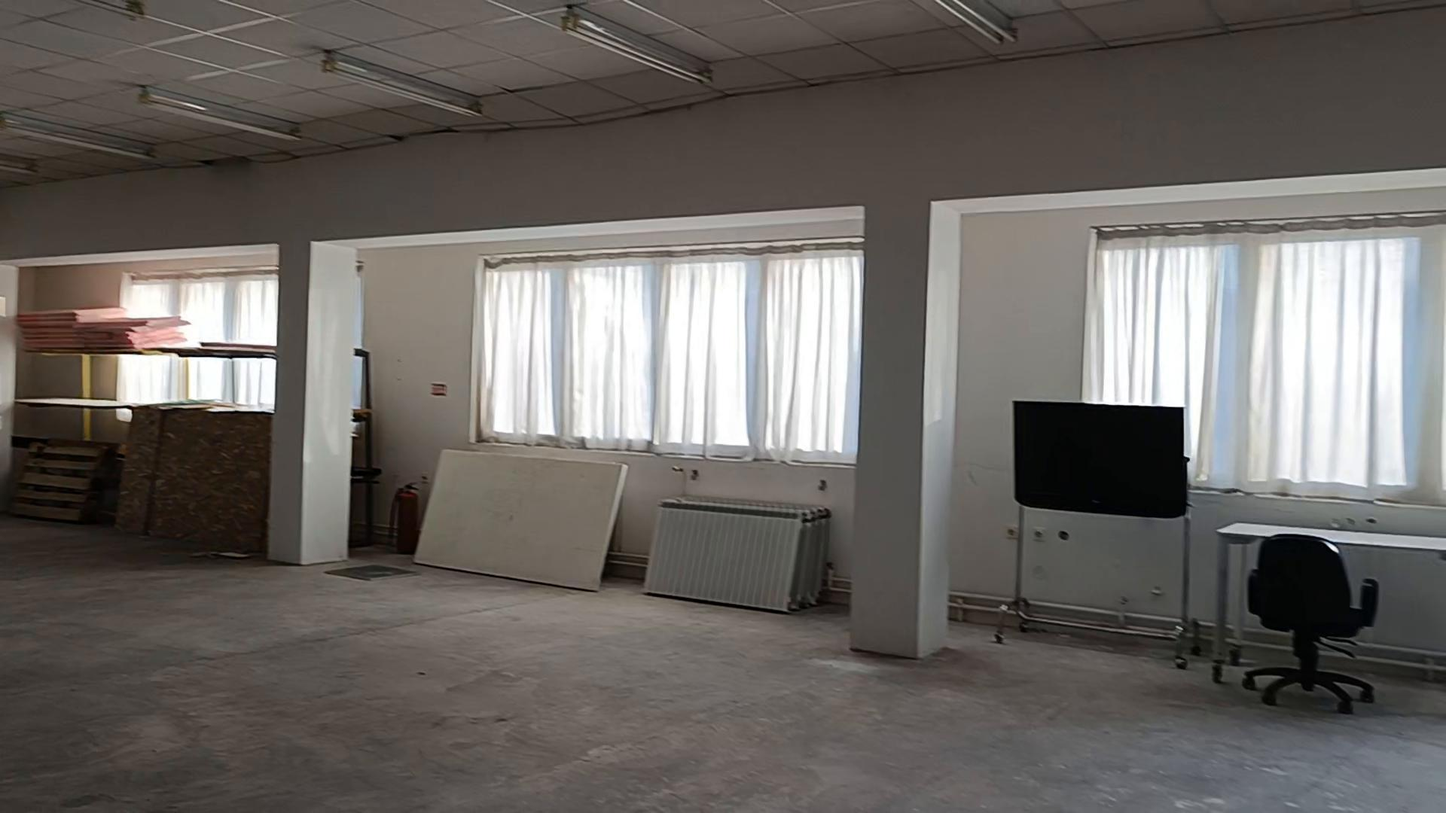ceiling: (0, 0, 1445, 186)
floor: (0, 519, 1445, 812)
wall: (1, 21, 1445, 642), (267, 239, 359, 565)
